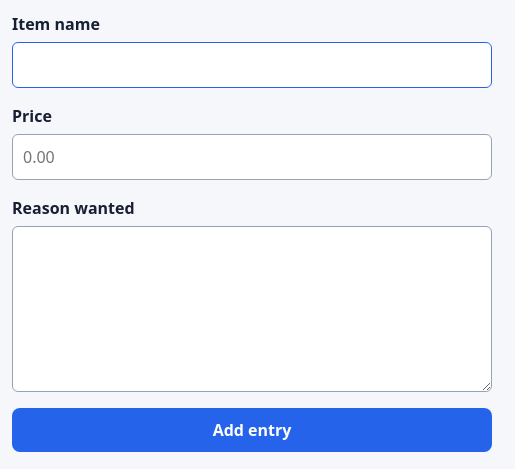
EntryForm › prevents duplicate submissions while saving
Type "Coffee grinder" into the field labelled "Item name".
click(252, 65); type("Coffee grinder")  # box [12,42,492,88]
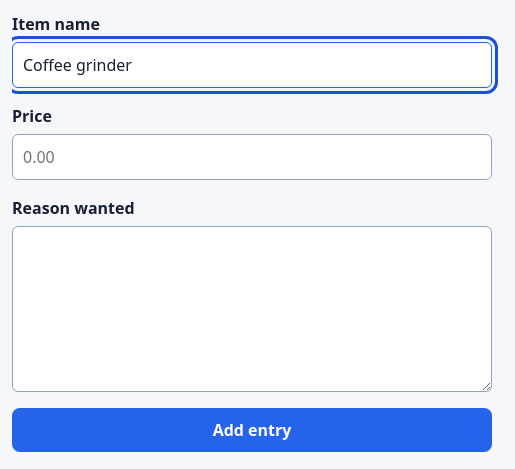
Type "89.99" into the field labelled "Price".
click(252, 157); type("89.99")  # box [12,134,492,180]
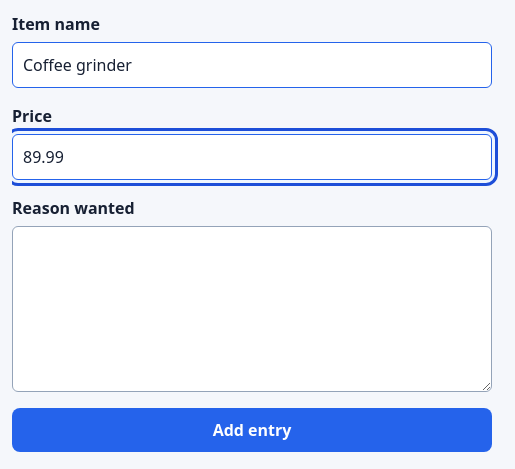
Type "Better coffee at home" into the text box labelled "Reason wanted".
click(252, 309); type("Better coffee at home")  # box [12,226,492,392]
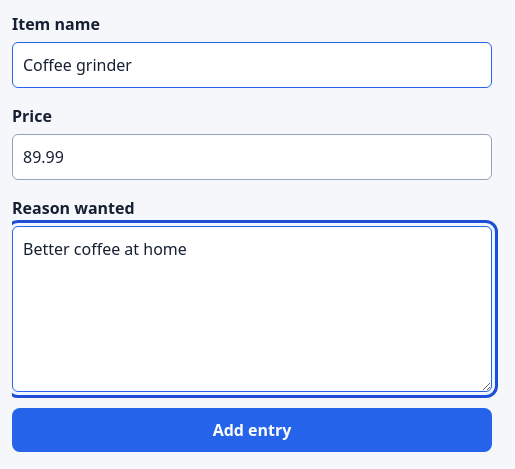
Double-click the button "Add entry".
double_click(252, 430)  # box [12,408,492,452]
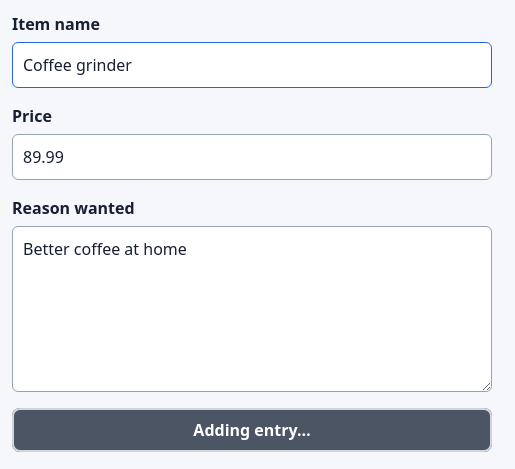
Expected: the button "Adding entry…" is disabled, [12,408,492,452]
